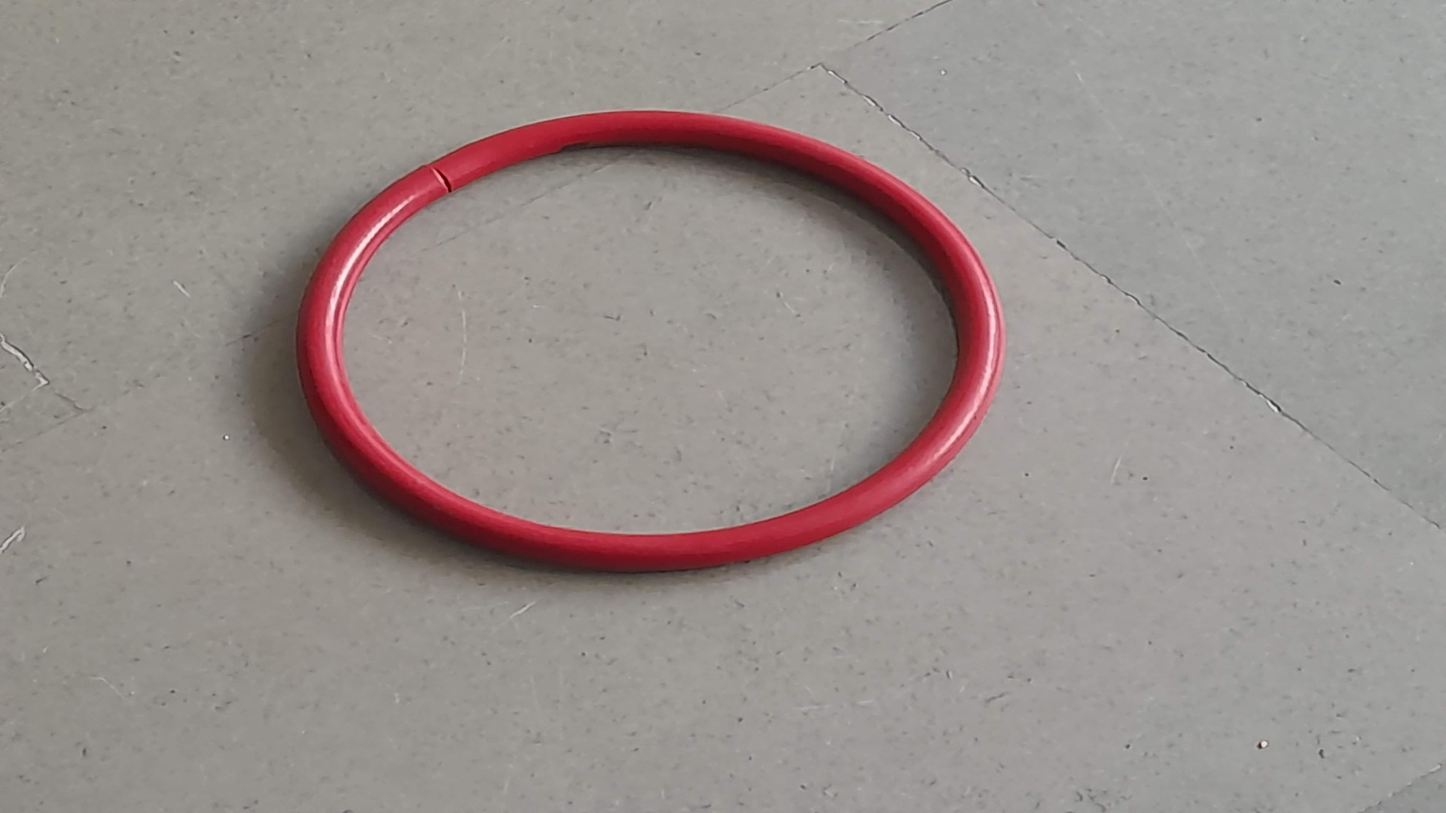Red ring: (304, 108, 1002, 569)
